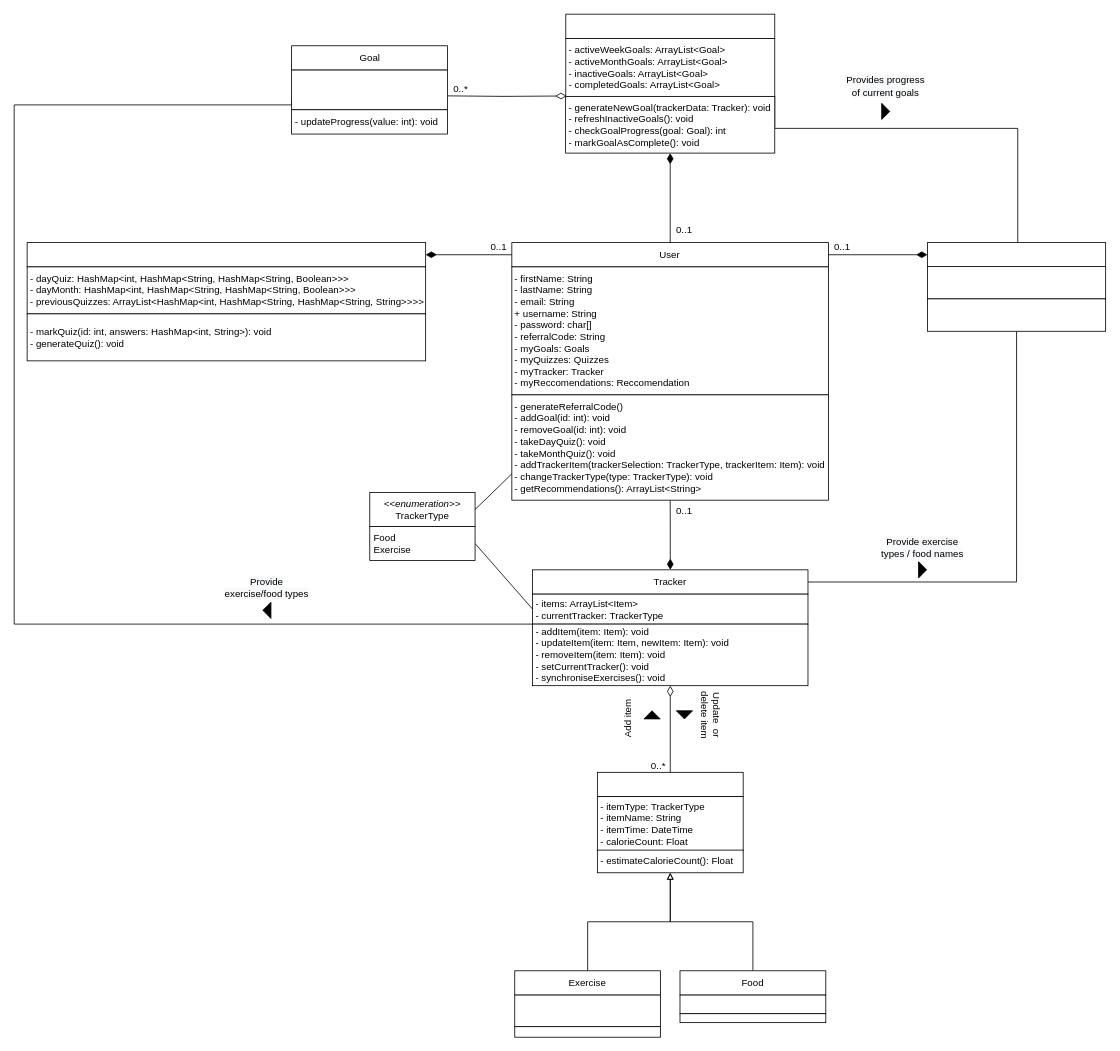
The diagram is 1120 pixels wide and 1051 high, and some of its shapes have lost their labels. The shapes that lost their labels are listed below. From the top down, each one's centre as x and y in pixels, then its label:
At [670,25]: "Goals".
At [369,89]: "- description: String - progress: int - badgeIconUrl: String".
At [226,254]: "Quizzes".
At [1016,254]: "Recommendation".
At [1016,282]: "- recommendations: ArrayList<String> - suggestedArticles: ArrayList<String>".
At [1016,314]: "- generateReccomendations(): void - pickSuggestedArticle(): void".
At [670,784]: "Item".
At [587,1010]: "- exerciseDuration: int - /itemEndTime: DateTime".
At [752,1004]: "- servingSizeInGrams: int".
